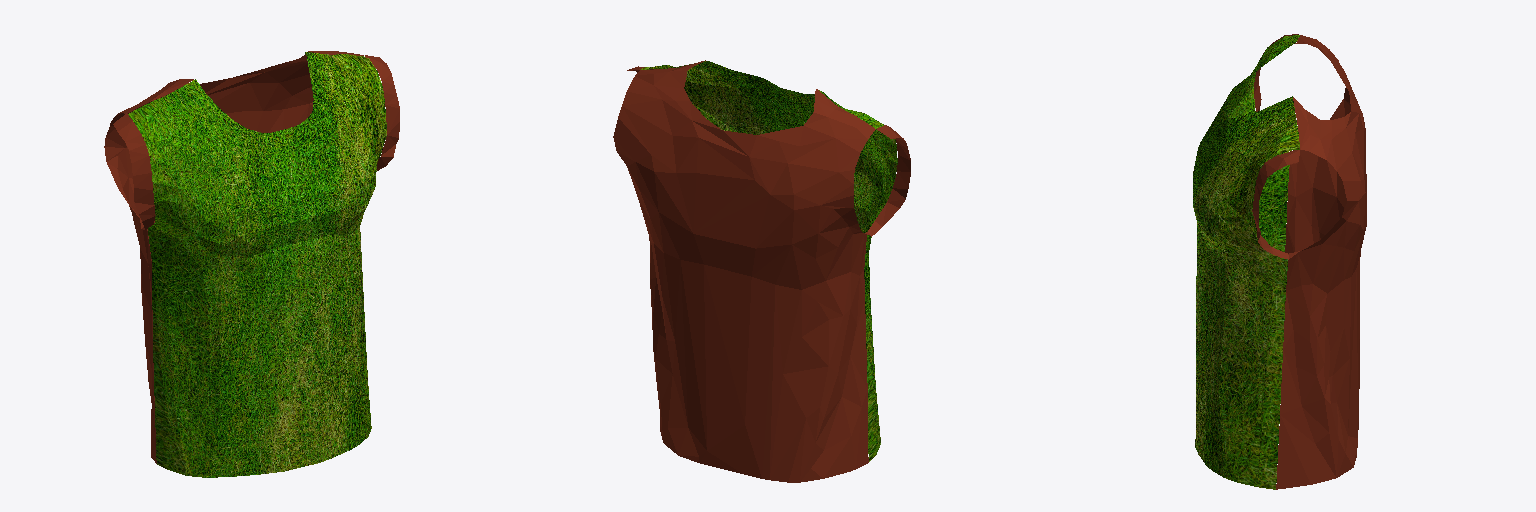
The picture shows the model from 3 angles: view 1: azimuth 30°, elevation 25°; view 2: azimuth 150°, elevation 25°; view 3: azimuth 270°, elevation 25°; orthographic projection.
Parts seen in each view (by area): view 1: T_shirt.007; view 2: T_shirt.007; view 3: T_shirt.007.
Part boxes in pixels (left/top/right/bottom): T_shirt.007: left=104, top=51, right=399, bottom=477; T_shirt.007: left=613, top=60, right=910, bottom=482; T_shirt.007: left=1193, top=34, right=1366, bottom=489.
Bounding box in the file's own units: 0.2935 × 0.3892 × 0.1639.
2 materials, 1 textured.